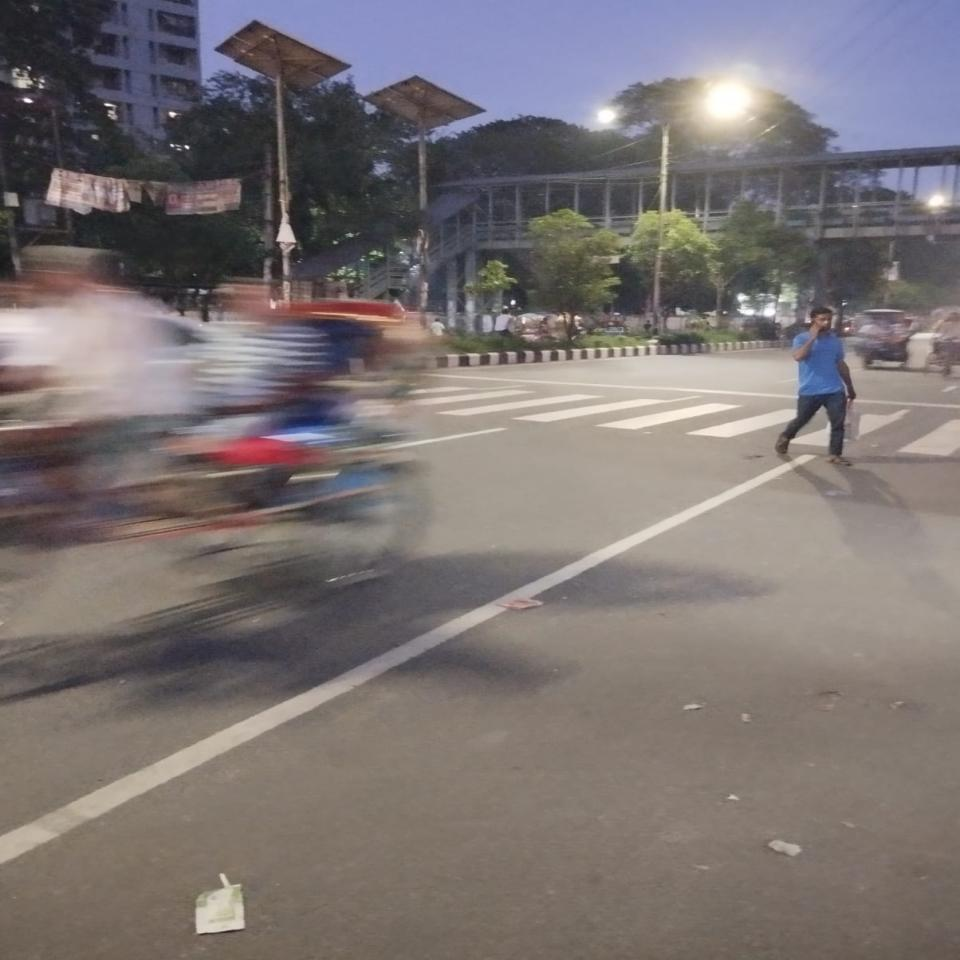person: (775, 307, 856, 465)
